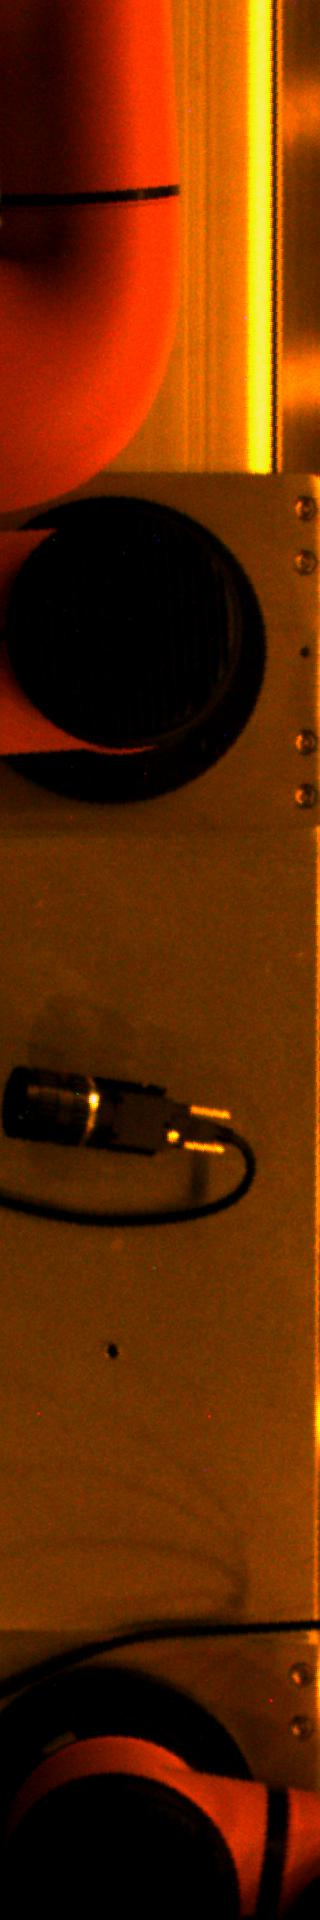keyPoint_2: (97, 1335, 128, 1365)
